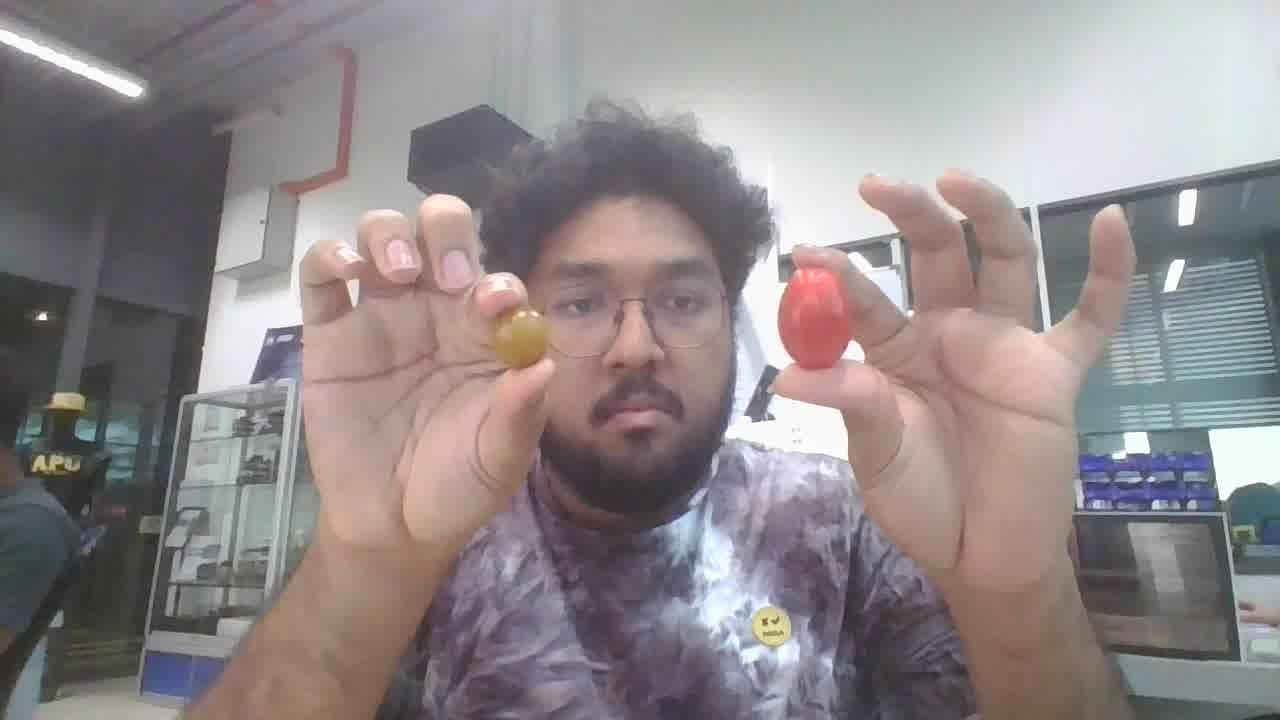red_cherry_tomato: (778, 267, 851, 369)
yellow_cherry_tomato: (494, 305, 546, 367)
